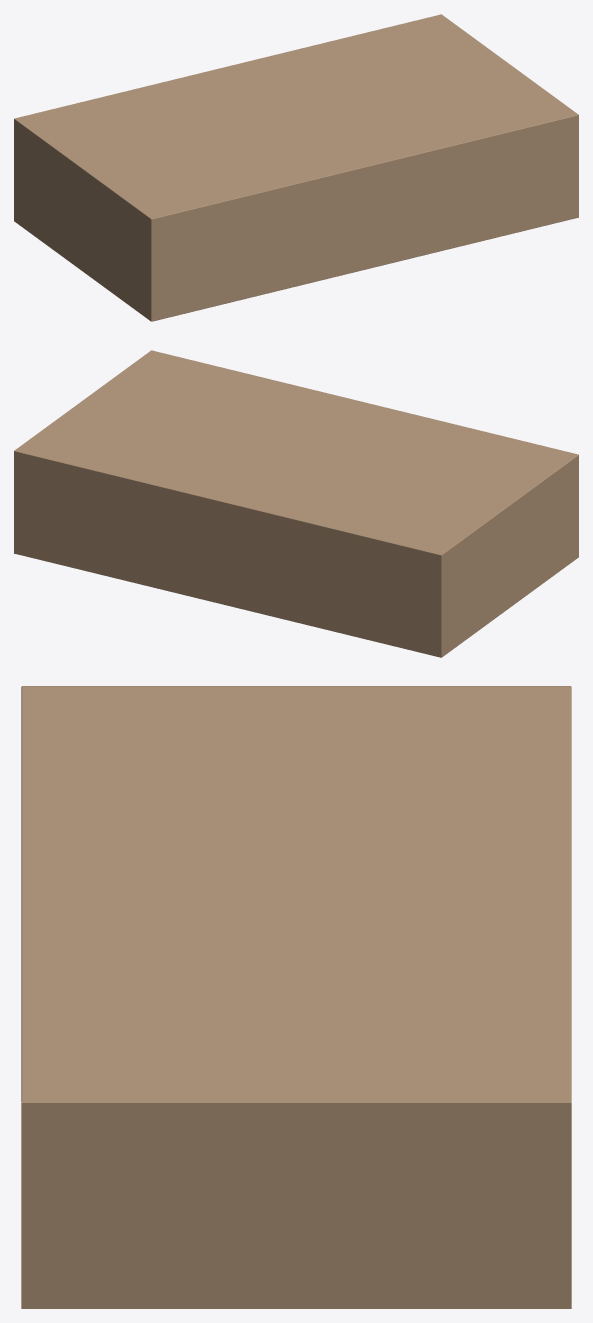
The model's file is combo-dual-flower-horizontal-closed.glb.
3 views of the same model, one above another, from view 1: azimuth 30°, elevation 25°; view 2: azimuth 150°, elevation 25°; view 3: azimuth 270°, elevation 25° (orthographic). The views are drawn at different scales.
Visible parts, largest first — view 1: hbox_body; view 2: hbox_body; view 3: hbox_body, hbox_lid.
Boxes of the visible parts, box(x1,y1,x2,y2) form: hbox_body: box(14, 14, 578, 321); hbox_body: box(15, 350, 578, 657); hbox_body: box(21, 686, 571, 1102); hbox_lid: box(21, 1102, 571, 1308).
Size of the model in its own units: 0.174 by 0.04 by 0.097.
